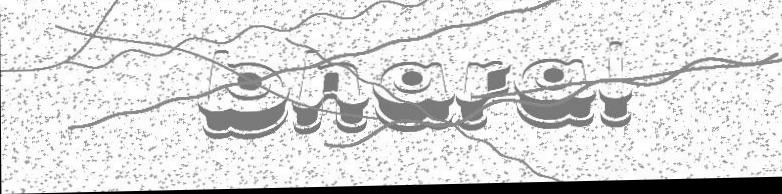a: (370, 62, 455, 135), (512, 60, 595, 133)
b: (195, 49, 290, 143)
h: (290, 49, 370, 137)
l: (598, 43, 632, 132)
r: (455, 61, 511, 134)
